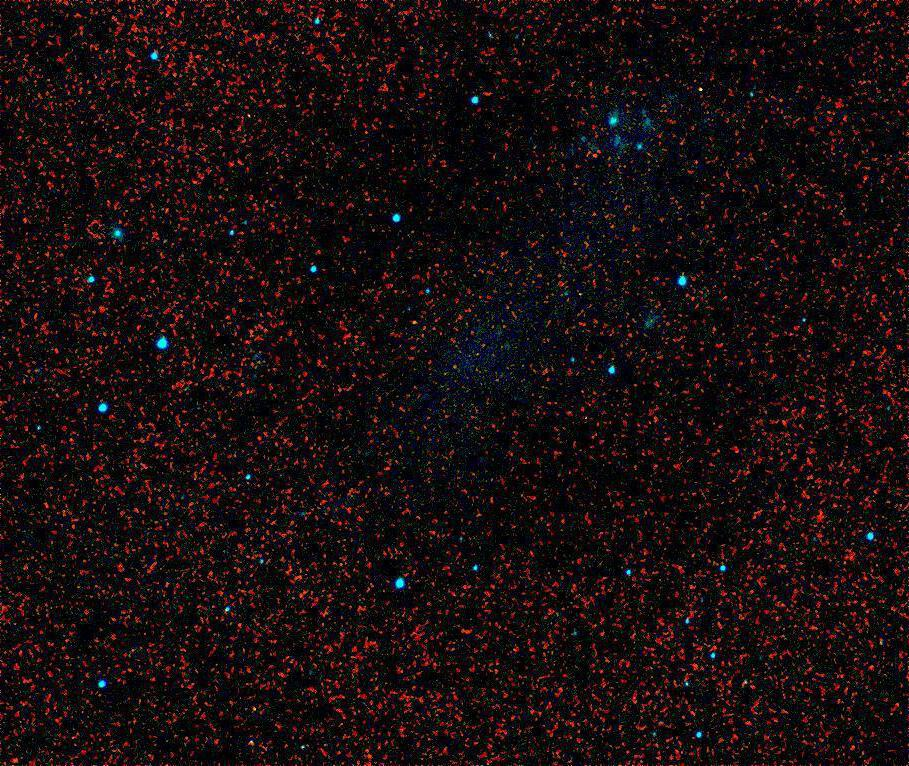star: (438, 354, 468, 384)
